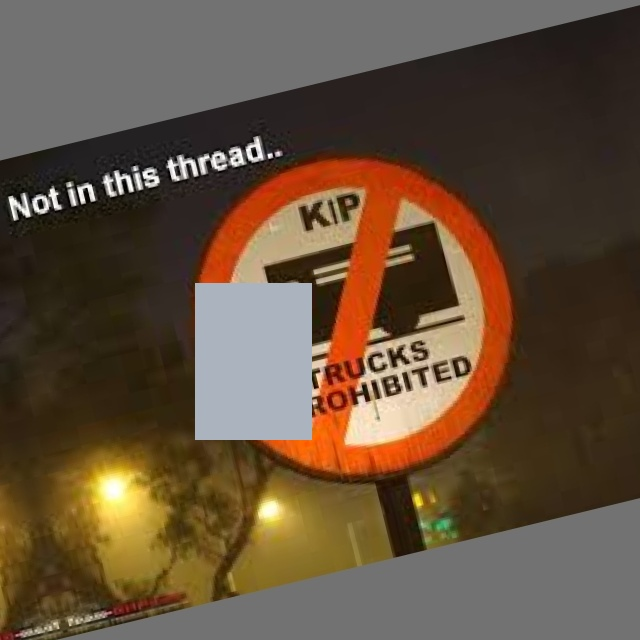Truck_Prohibited: (160, 120, 559, 516)
